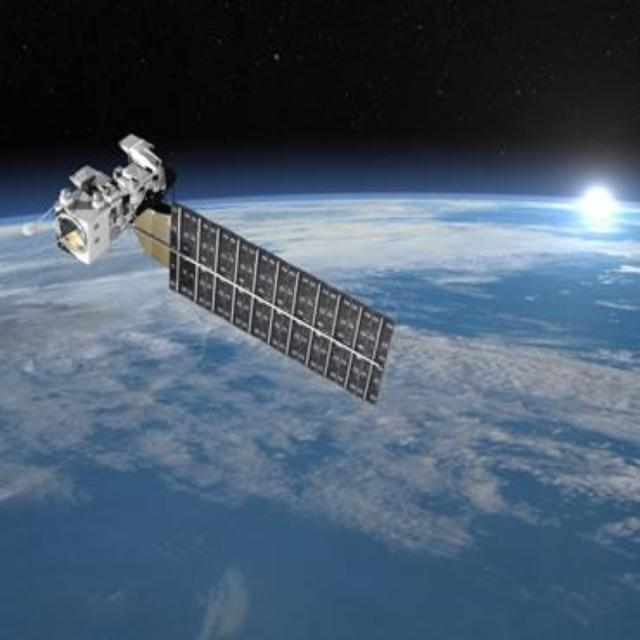sat: (33, 125, 401, 428)
